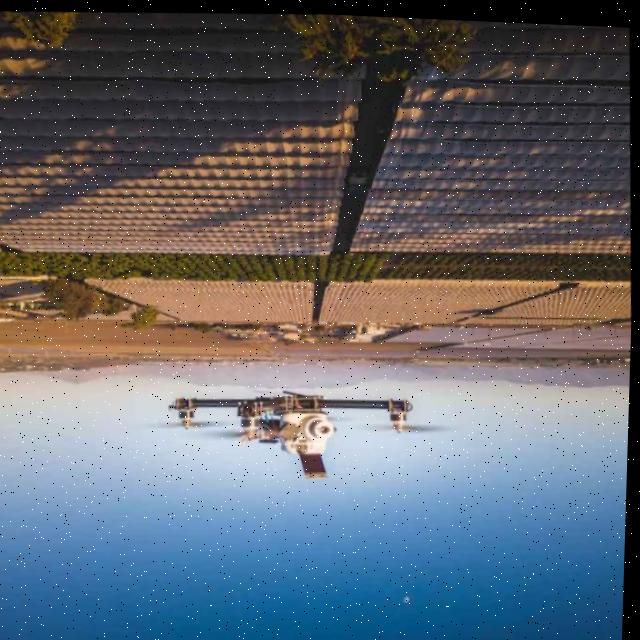drones: (99, 368, 459, 524)
